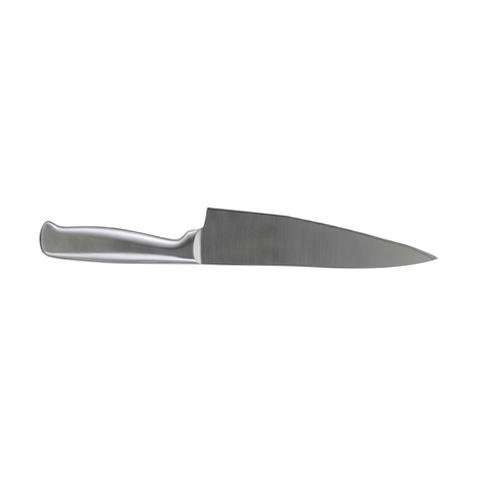knife: (40, 207, 441, 270)
